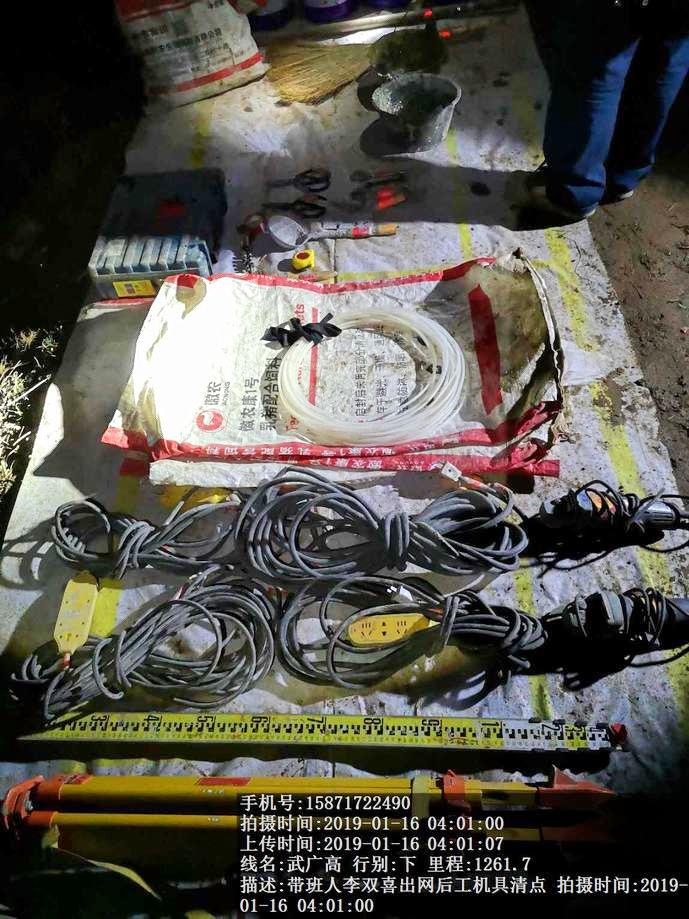BZD: (100, 261, 584, 490)
SG: (265, 309, 457, 435)
SNT: (367, 68, 467, 144)
